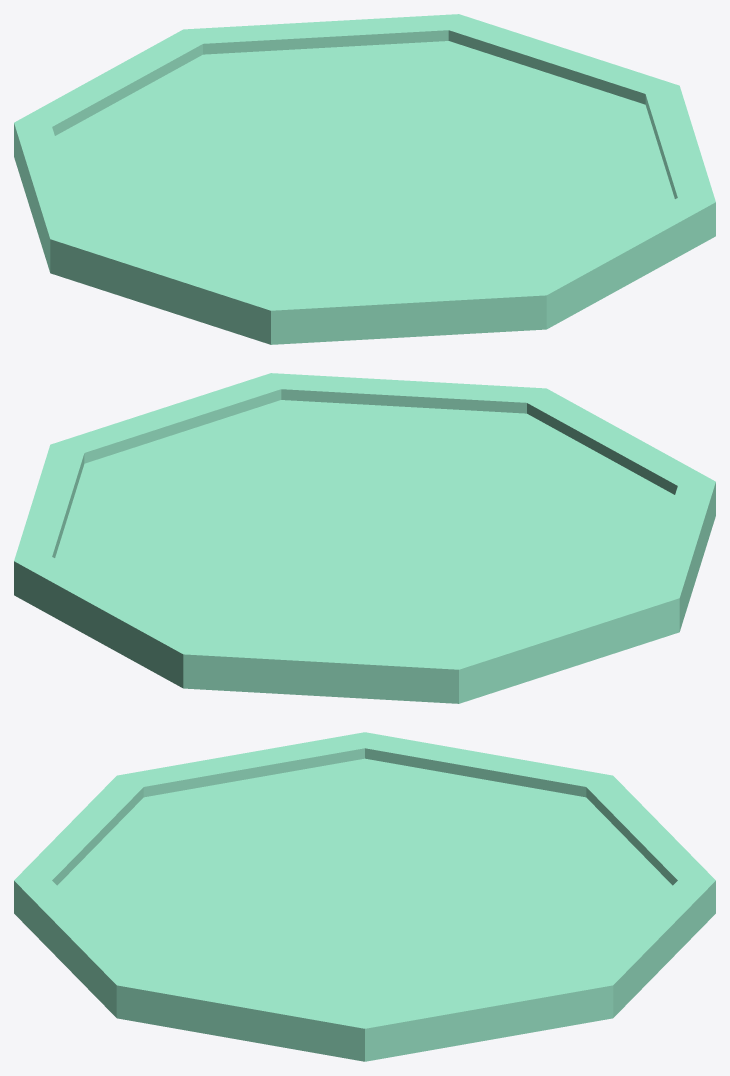
The model's file is Food_Plate_Dark.fbx.
3 renders of one model, top to bottom at view 1: azimuth 30°, elevation 25°; view 2: azimuth 150°, elevation 25°; view 3: azimuth 270°, elevation 25°, orthographic. The views are drawn at different scales.
Visible parts, largest first — view 1: Plate_medium.001; view 2: Plate_medium.001; view 3: Plate_medium.001.
Boxes of the visible parts, x1,y1,x2,y2 form: Plate_medium.001: [14, 14, 715, 344]; Plate_medium.001: [14, 373, 715, 703]; Plate_medium.001: [14, 732, 715, 1061].
Size of the model in its own units: 33.65 by 2.63 by 33.65.
